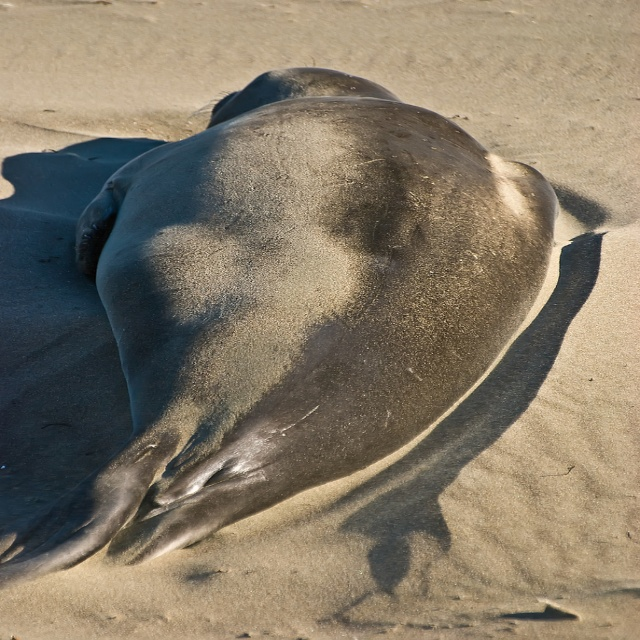Sea lion: (0, 65, 580, 584)
